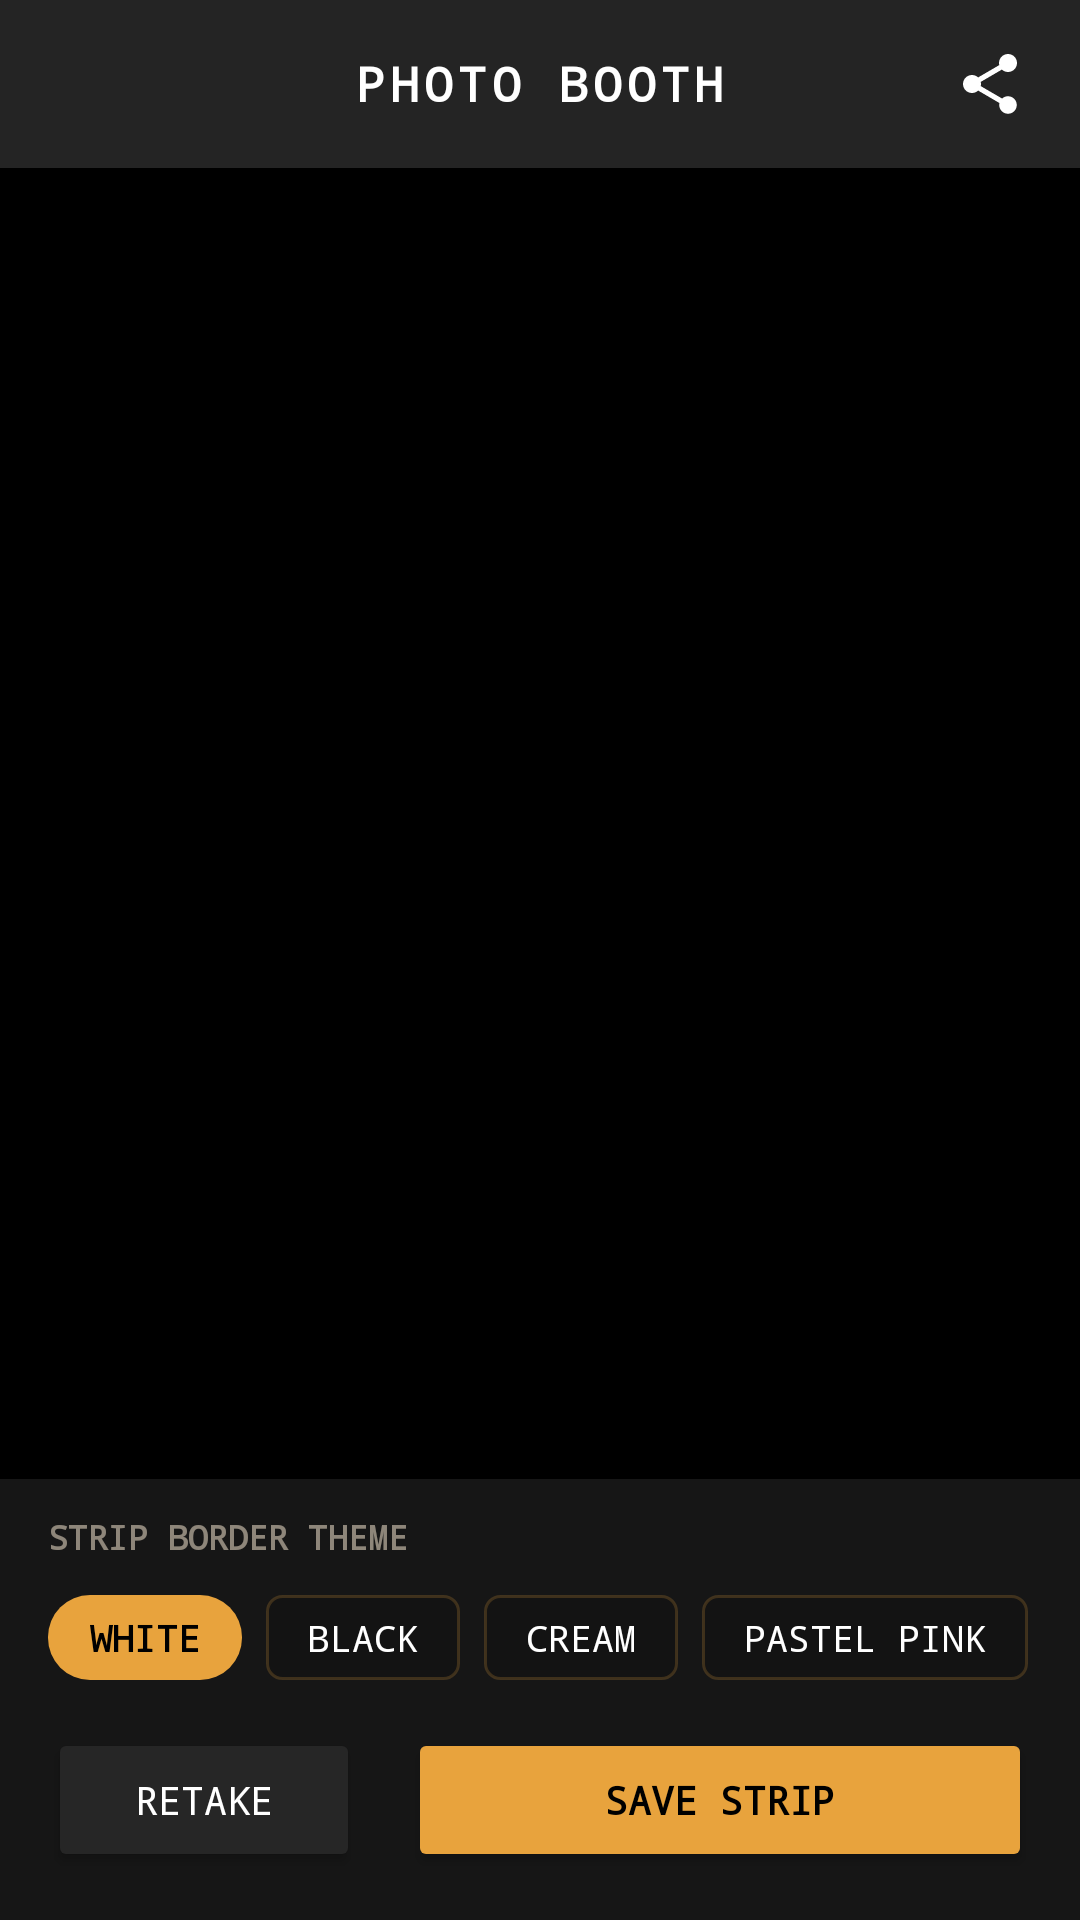

Point at icon controls on the screen. Image size 1080 x 1920, points as (x=x, y=y).
Share Strip: (x=990, y=84)
